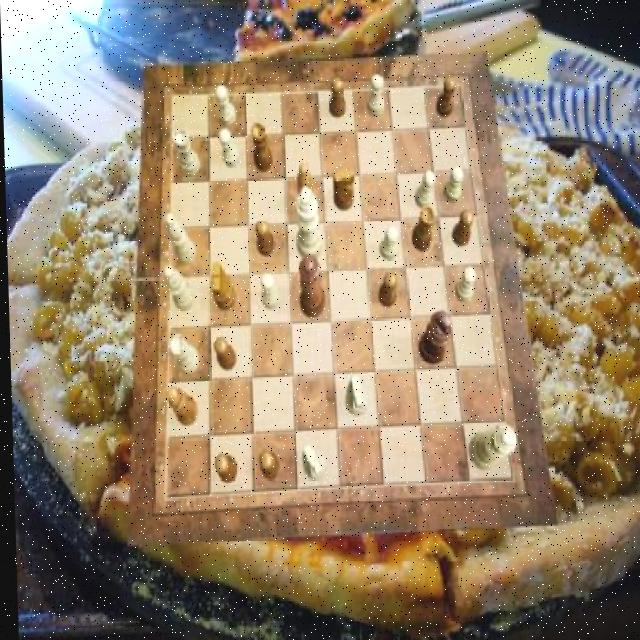bishop: (164, 386, 196, 426), (295, 163, 316, 218)
black-bishop: (416, 310, 451, 364)
black-king: (209, 263, 234, 311), (332, 168, 355, 210)
black-knight: (436, 77, 457, 117), (450, 210, 473, 246), (213, 337, 236, 371), (376, 272, 396, 308), (328, 78, 346, 118), (255, 220, 274, 256), (212, 454, 236, 481), (257, 452, 277, 480)
black-pawn: (297, 256, 324, 320)
black-queen: (250, 123, 273, 172), (409, 206, 433, 252)
black-rook: (163, 214, 196, 266), (163, 265, 195, 310)
white-bishop: (293, 186, 322, 261)
white-king: (343, 377, 366, 417), (299, 444, 324, 480)
white-knight: (216, 85, 237, 126), (219, 129, 240, 168), (415, 171, 436, 209), (442, 166, 463, 202), (454, 268, 476, 302), (366, 74, 384, 115), (378, 226, 399, 261), (259, 274, 279, 310)
white-pawn: (467, 425, 516, 470)
white-queen: (172, 129, 200, 177), (166, 334, 197, 375)
